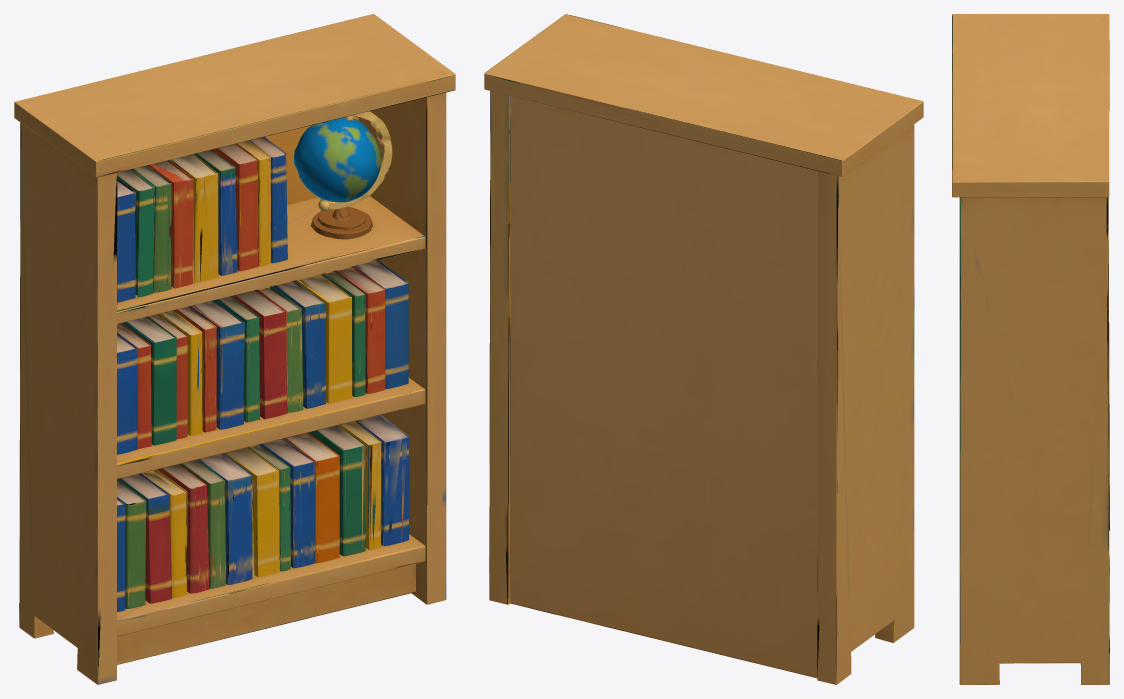
The model's file is ScienceBookshelf.glb.
3 renders of one model, left to right at view 1: azimuth 30°, elevation 25°; view 2: azimuth 150°, elevation 25°; view 3: azimuth 270°, elevation 25°, orthographic. The views are drawn at different scales.
Visible parts, largest first — view 1: geometry_0; view 2: geometry_0; view 3: geometry_0.
Boxes of the visible parts, x1=… form: geometry_0: x1=14, y1=14, x2=455, y2=684; geometry_0: x1=484, y1=14, x2=923, y2=684; geometry_0: x1=952, y1=14, x2=1109, y2=684.
Bounding box in the file's own units: 0.6782 × 0.9507 × 0.269.
1 material, 1 textured.
